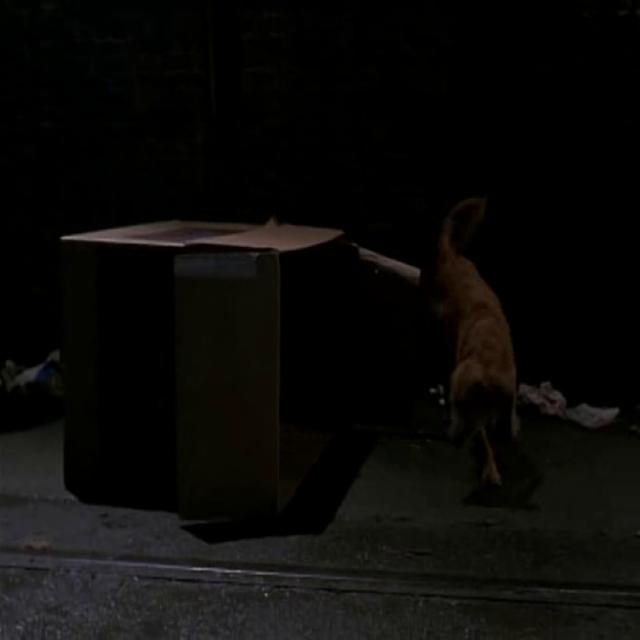Dog: (388, 225, 589, 540)
